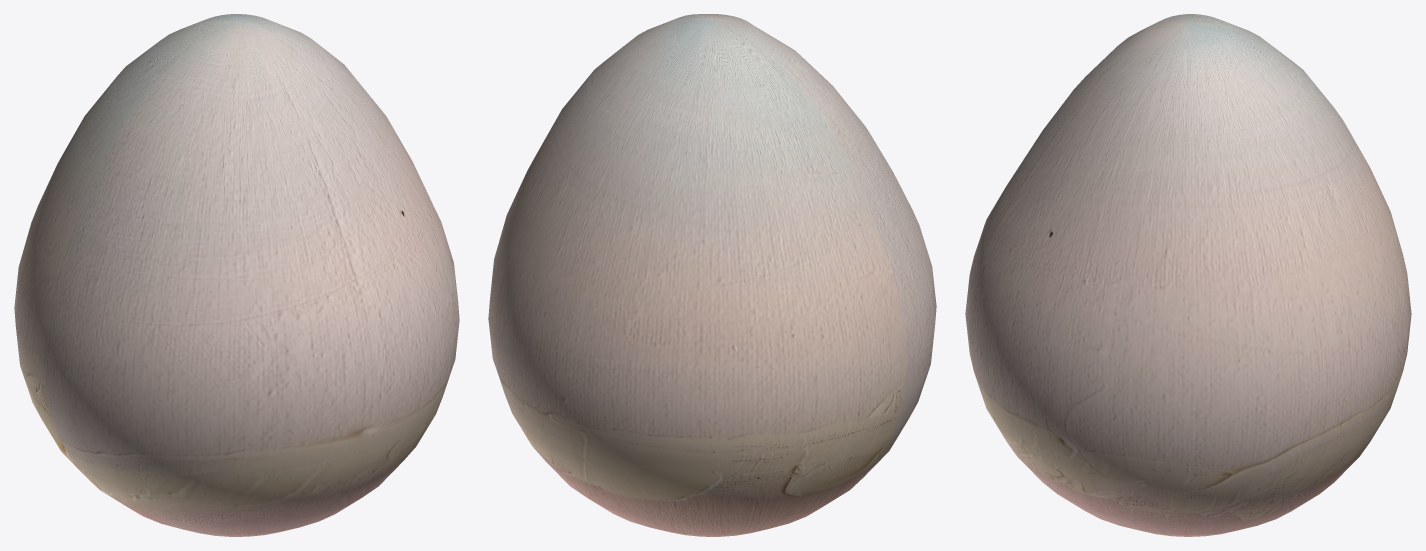
File: paint_egg.glb
3 renders of one model, left to right at view 1: azimuth 30°, elevation 25°; view 2: azimuth 150°, elevation 25°; view 3: azimuth 270°, elevation 25°, orthographic.
Visible parts, largest first — view 1: Sphere; view 2: Sphere; view 3: Sphere.
Boxes of the visible parts, x1,y1,x2,y2 form: Sphere: (14,14,459,536); Sphere: (488,14,936,536); Sphere: (965,14,1411,536).
Bounding box in the file's own units: 2 × 2.44 × 2.
Materials: 1 (1 with a texture image).
